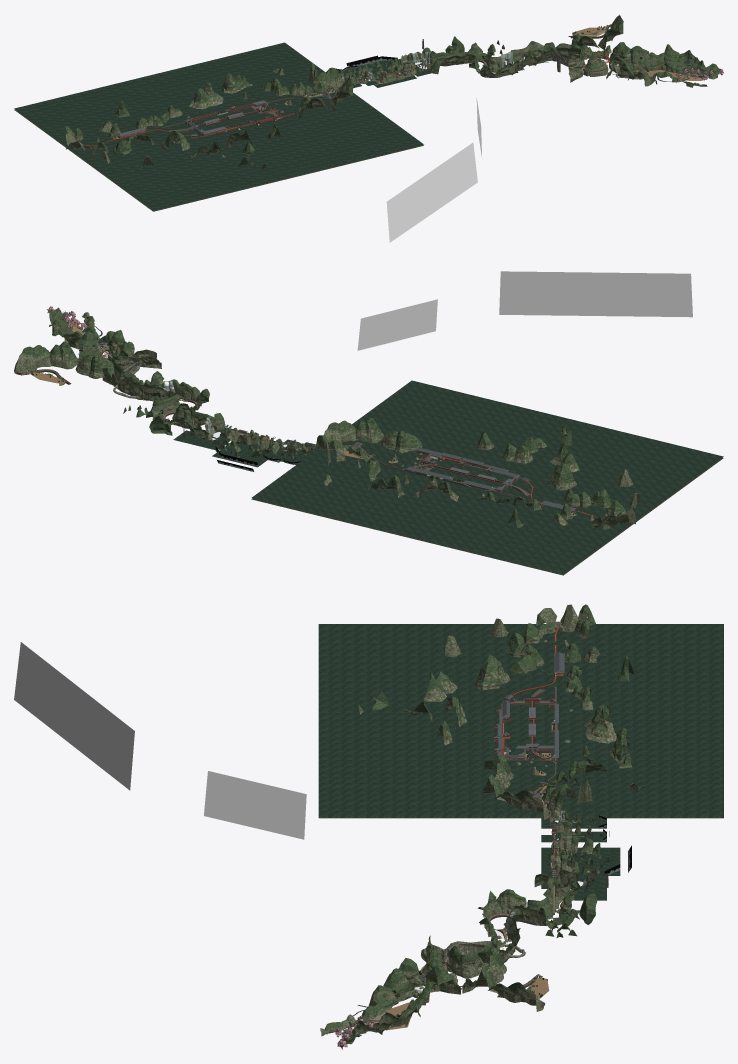
The model's file is dragonRoad Full.fbx.
The picture shows the model from 3 angles, top to bottom: view 1: azimuth 30°, elevation 25°; view 2: azimuth 150°, elevation 25°; view 3: azimuth 270°, elevation 25°; orthographic projection. The views are drawn at different scales.
Parts seen in each view (by area): view 1: stg041_w_A00_Mesh_0000, stg041_o_A04_Mesh_0013, stg041_o_C09_Mesh_0000, stg041_o_C09_Mesh_0001, stg041_o_C06_Mesh_0001, stg041_o_C04_Mesh_0000, stg041_o_A24_Mesh_0000, stg041_w_B00_Mesh_0000, stg041_o_C04_Mesh_0002, stg041_o_C09_Mesh_0002, stg041_og_A22_Mesh_0001.001, stg041_o_C06_Mesh_0000 (+11 smaller); view 2: stg041_w_A00_Mesh_0000, stg041_o_A04_Mesh_0013, stg041_w_B00_Mesh_0000, stg041_o_A21_Mesh_0000.001, stg041_o_A21_Mesh_0001.001, stg041_o_C04_Mesh_0000, stg041_o_C06_Mesh_0001, stg041_o_C09_Mesh_0000, stg041_og_A22_Mesh_0001.001, stg041_o_A24_Mesh_0000, stg041_o_C04_Mesh_0002, stg041_o_A04_Mesh_0010 (+10 smaller); view 3: stg041_w_A00_Mesh_0000, stg041_o_A04_Mesh_0013, stg041_w_B00_Mesh_0000, stg041_o_C09_Mesh_0000, stg041_o_C04_Mesh_0000, stg041_o_A21_Mesh_0000.001, stg041_o_C09_Mesh_0001, stg041_o_C06_Mesh_0001, stg041_o_A21_Mesh_0001.001, stg041_og_A22_Mesh_0001.001, stg041_o_C04_Mesh_0001, stg041_o_A02_Mesh_0017 (+8 smaller).
Boxes of the visible parts, <box> form: stg041_w_A00_Mesh_0000: <box>14,42,423,210</box>; stg041_o_A04_Mesh_0013: <box>386,98,482,242</box>; stg041_o_C09_Mesh_0000: <box>607,42,719,86</box>; stg041_o_C09_Mesh_0001: <box>607,47,719,87</box>; stg041_o_C06_Mesh_0001: <box>512,43,611,82</box>; stg041_o_C04_Mesh_0000: <box>433,36,518,74</box>; stg041_o_A24_Mesh_0000: <box>14,109,423,211</box>; stg041_w_B00_Mesh_0000: <box>337,51,438,87</box>; stg041_o_C04_Mesh_0002: <box>437,43,522,75</box>; stg041_o_C09_Mesh_0002: <box>606,49,707,86</box>; stg041_og_A22_Mesh_0001.001: <box>338,14,623,80</box>; stg041_o_C06_Mesh_0000: <box>511,42,610,69</box>; stg041_w_A00_Mesh_0000: <box>251,380,723,573</box>; stg041_o_A04_Mesh_0013: <box>357,271,692,350</box>; stg041_w_B00_Mesh_0000: <box>173,427,317,466</box>; stg041_o_A21_Mesh_0000.001: <box>14,357,320,459</box>; stg041_o_A21_Mesh_0001.001: <box>18,349,315,459</box>; stg041_o_C04_Mesh_0000: <box>123,379,209,435</box>; stg041_o_C06_Mesh_0001: <box>102,349,161,401</box>; stg041_o_C09_Mesh_0000: <box>47,307,134,355</box>; stg041_og_A22_Mesh_0001.001: <box>22,341,311,458</box>; stg041_o_A24_Mesh_0000: <box>251,457,723,575</box>; stg041_o_C04_Mesh_0002: <box>144,381,209,432</box>; stg041_o_A04_Mesh_0010: <box>477,426,579,472</box>; stg041_w_A00_Mesh_0000: <box>318,624,723,816</box>; stg041_o_A04_Mesh_0013: <box>14,642,306,839</box>; stg041_w_B00_Mesh_0000: <box>541,818,620,900</box>; stg041_o_C09_Mesh_0000: <box>324,958,458,1045</box>; stg041_o_C04_Mesh_0000: <box>478,878,597,937</box>; stg041_o_A21_Mesh_0000.001: <box>475,810,616,1011</box>; stg041_o_C09_Mesh_0001: <box>326,970,460,1048</box>; stg041_o_C06_Mesh_0001: <box>421,920,519,993</box>; stg041_o_A21_Mesh_0001.001: <box>477,810,616,994</box>; stg041_og_A22_Mesh_0001.001: <box>477,811,617,991</box>; stg041_o_C04_Mesh_0001: <box>485,881,577,938</box>; stg041_o_A02_Mesh_0017: <box>481,633,596,671</box>.
Bounding box in the file's own units: 521630 × 55860 × 377557.
Materials: 71 (70 with a texture image).
